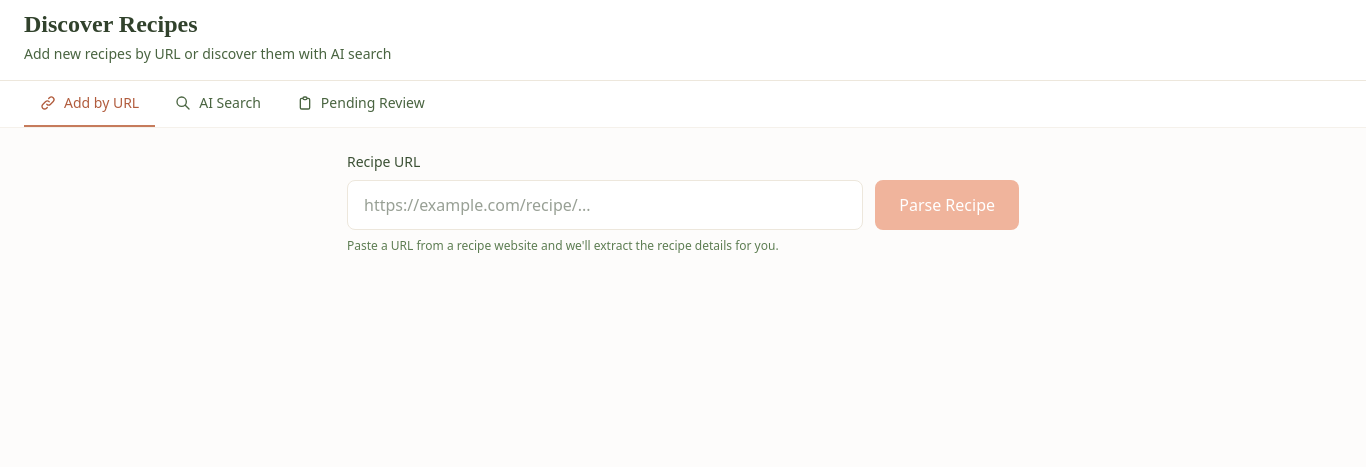
DiscoverPage › Pending Queue › displays empty state when no pending recipes
Step 1. Click the button "Pending Review" → {"x": 361, "y": 104}, box [281,81,441,127]
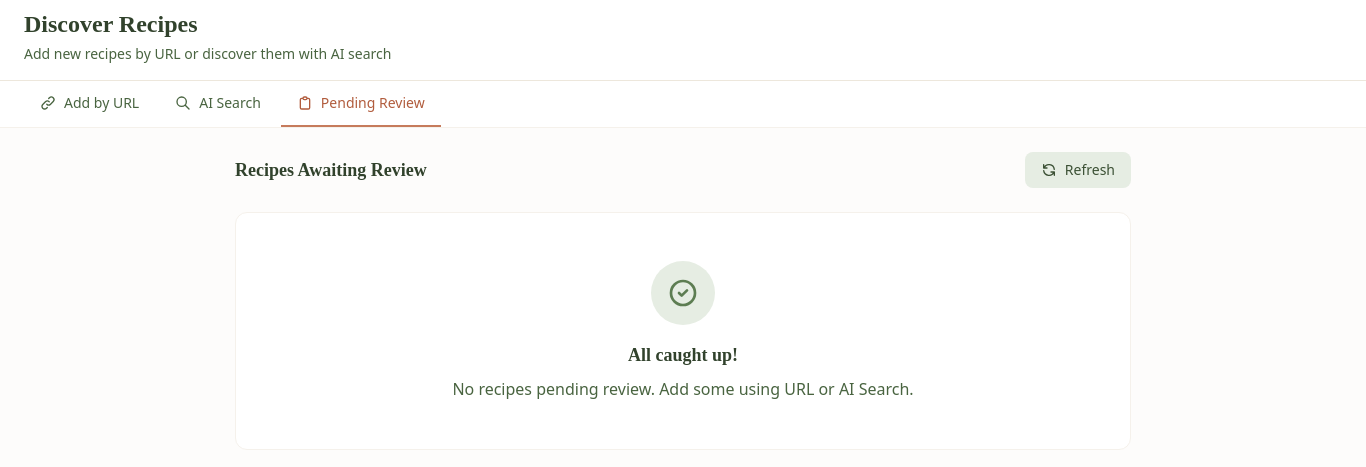
Check: the heading "All caught up!" is shown, box [628,345,738,365]
